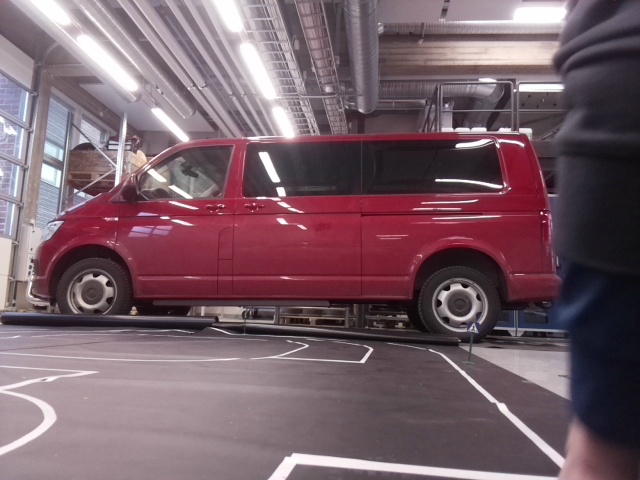Crosswalk: (468, 321, 478, 334)
